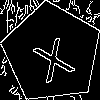X: (27, 28, 76, 84)
